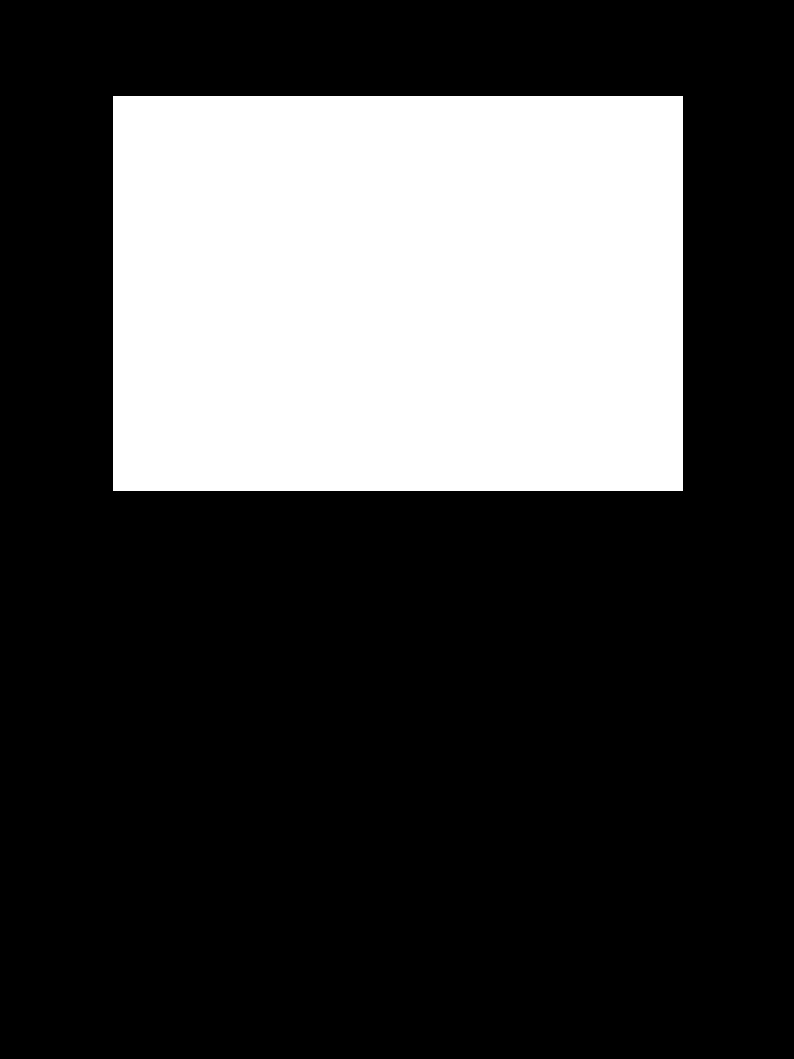table: (113, 96, 682, 490)
